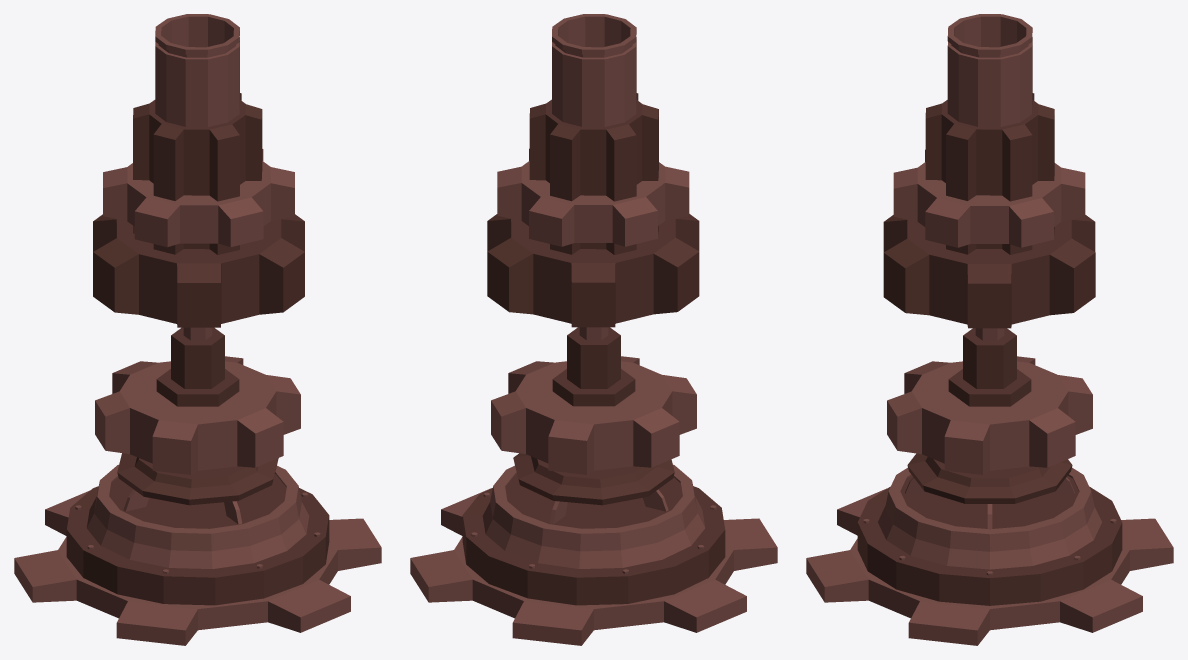
Rendered from upwards-1-26aea36c54.glb.
The picture shows the model from 3 angles, left to right: view 1: azimuth 30°, elevation 25°; view 2: azimuth 150°, elevation 25°; view 3: azimuth 270°, elevation 25°; orthographic projection.
Visible parts, largest first — view 1: Upwards_1.obj; view 2: Upwards_1.obj; view 3: Upwards_1.obj.
Boxes of the visible parts, x1,y1,x2,y2 form: Upwards_1.obj: [14, 14, 381, 645]; Upwards_1.obj: [410, 14, 777, 645]; Upwards_1.obj: [806, 14, 1173, 645].
Bounding box in the file's own units: 1.38 × 2.23 × 1.38.
